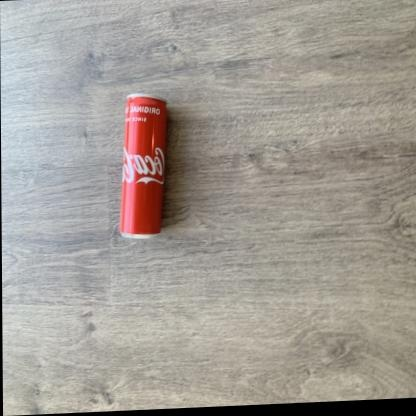trash: (120, 94, 166, 237)
